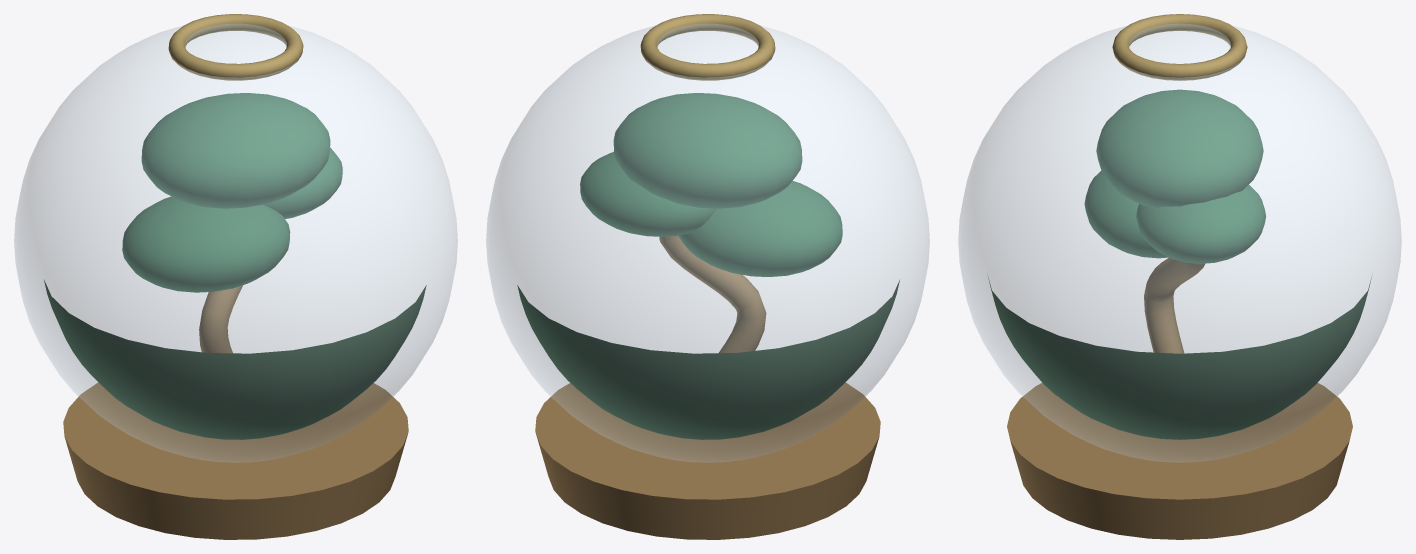
Rendered from atelier-decor-terrarium-matcha.glb.
3 renders of one model, left to right at view 1: azimuth 30°, elevation 25°; view 2: azimuth 150°, elevation 25°; view 3: azimuth 270°, elevation 25°, orthographic.
Bounding box in the file's own units: 0.21 × 0.226 × 0.21.
